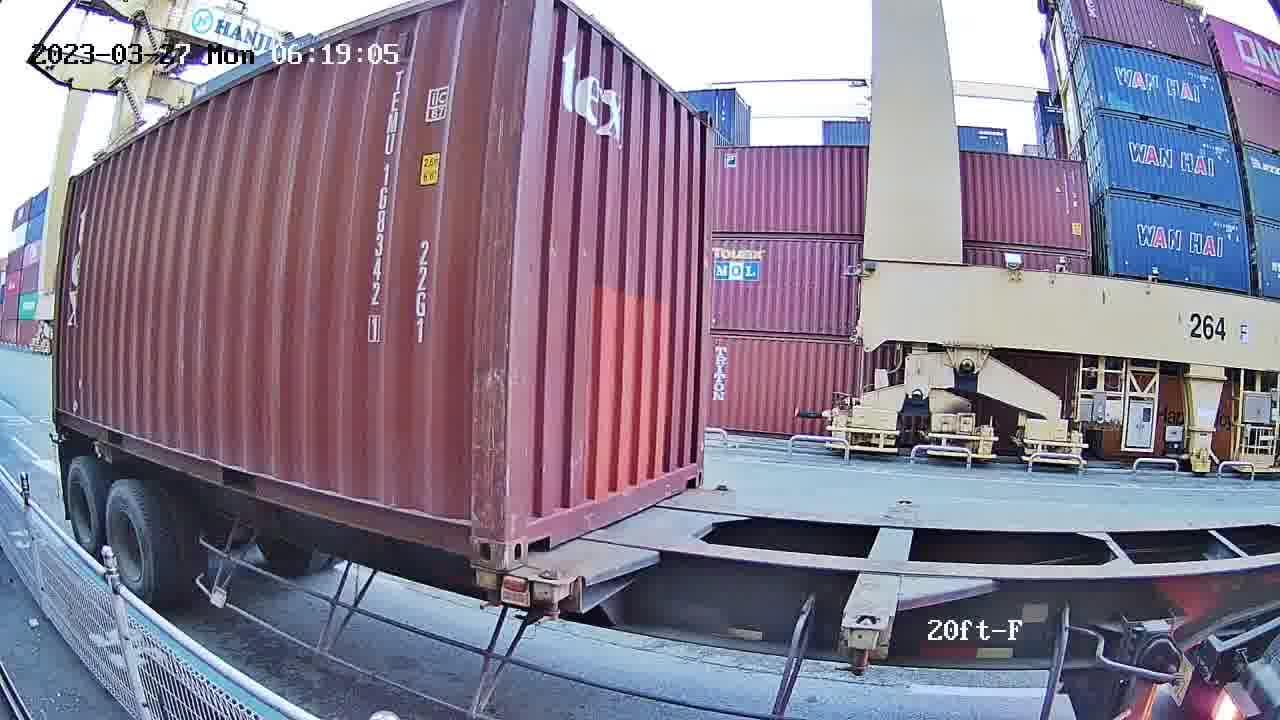Chassis: (535, 486, 736, 584)
Cone: (528, 570, 570, 624), (470, 563, 502, 612)
Hole_L: (505, 493, 550, 571)
Hole_R: (448, 496, 506, 571), (682, 449, 704, 493)
Tire: (106, 484, 157, 597), (67, 462, 104, 556)
